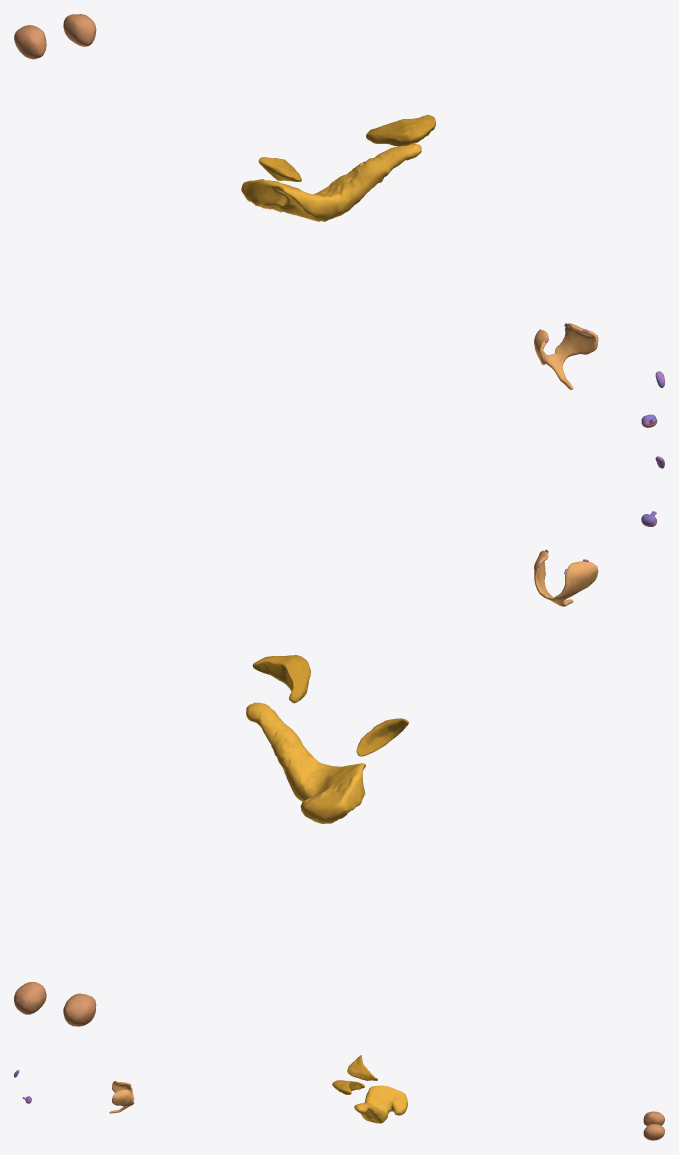
Rendered from endocrine.glb.
The picture shows the model from 3 angles, top to bottom: view 1: azimuth 30°, elevation 25°; view 2: azimuth 150°, elevation 25°; view 3: azimuth 270°, elevation 25°; orthographic projection. The views are drawn at different scales.
Parts seen in each view (by area): view 1: 胰, 甲状腺, 左侧肾上腺, 右侧睾丸, 左侧睾丸, 右侧肾上腺; view 2: 胰, 甲状腺, 左侧肾上腺, 右侧肾上腺, 右侧睾丸, 左侧睾丸; view 3: 胰, 甲状腺, 右侧肾上腺, 左侧肾上腺, 左侧睾丸, 右侧睾丸.
Part boxes in pixels (x1,y1,x2,y2): 胰: (241, 143, 421, 221); 甲状腺: (534, 323, 598, 389); 左侧肾上腺: (366, 114, 435, 146); 右侧睾丸: (14, 25, 46, 59); 左侧睾丸: (63, 14, 96, 46); 右侧肾上腺: (258, 157, 301, 181); 胰: (246, 702, 365, 823); 甲状腺: (534, 550, 598, 606); 左侧肾上腺: (252, 655, 310, 703); 右侧肾上腺: (356, 718, 408, 756); 右侧睾丸: (63, 993, 96, 1026); 左侧睾丸: (14, 982, 46, 1014); 胰: (354, 1085, 407, 1123); 甲状腺: (109, 1081, 134, 1113); 右侧肾上腺: (347, 1055, 377, 1080); 左侧肾上腺: (332, 1080, 364, 1094); 左侧睾丸: (643, 1124, 664, 1140); 右侧睾丸: (643, 1111, 664, 1125).
Size of the model in its own units: 0.2034 by 0.1511 by 1.32.
